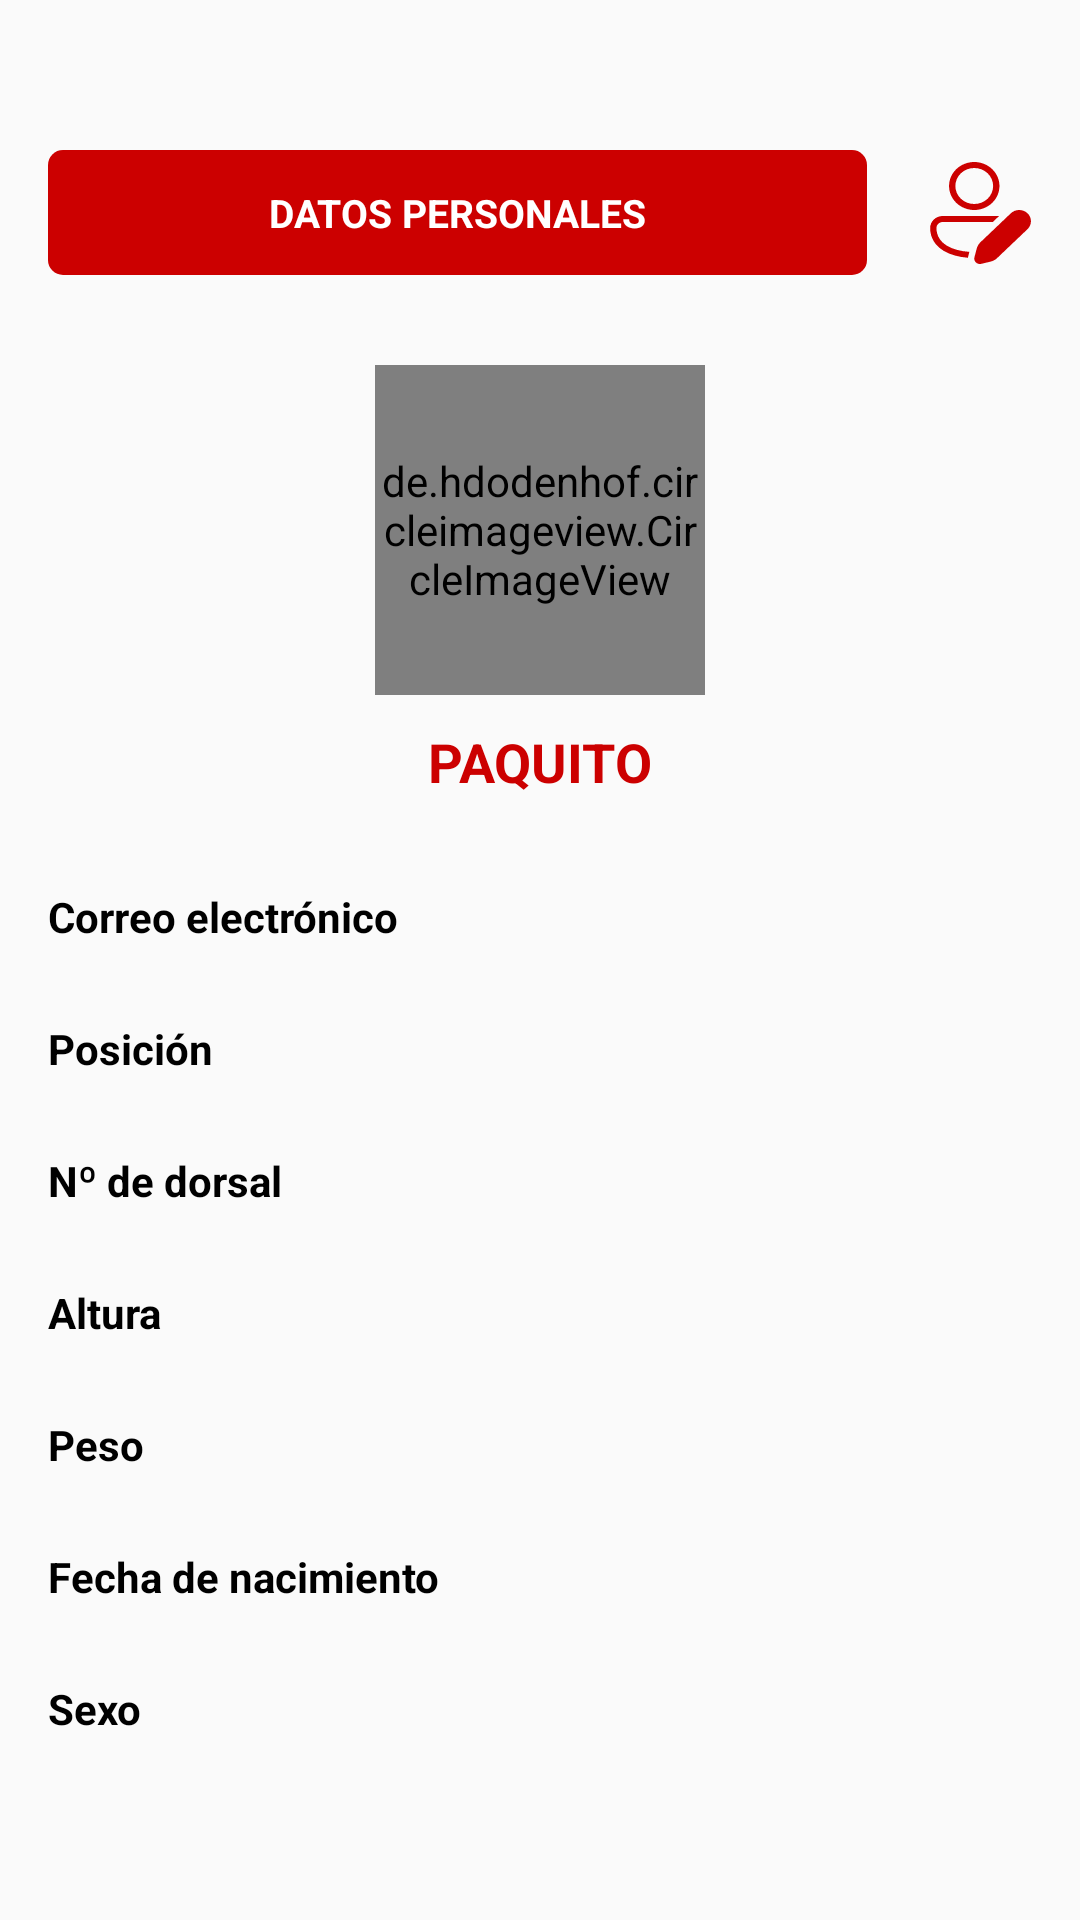

Icons on this 1080 × 1920 Android screen, each with the point to tap as [x,y]:
edit: [980,213]
